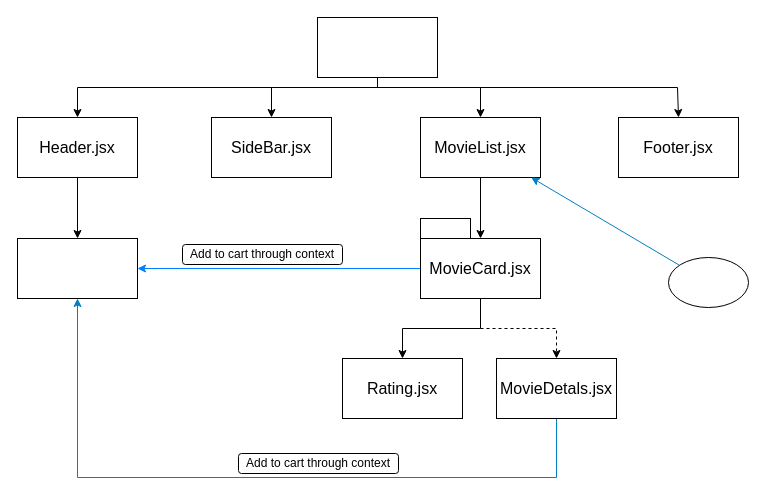
Image size: 766x503. Some labels were removed from this diagram. The centre of each missing label's shape, as x and y in pixels:
"1.....N" goes at (x=445, y=228).
"CartDetails.jsx" goes at (x=77, y=268).
"Main.jsx" goes at (x=377, y=47).
"Movie Data" goes at (x=708, y=282).
